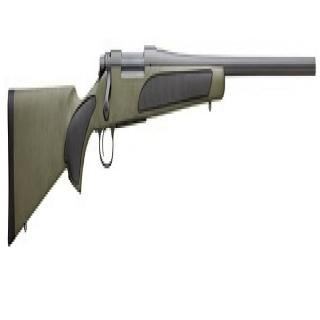gun: (5, 19, 314, 254)
